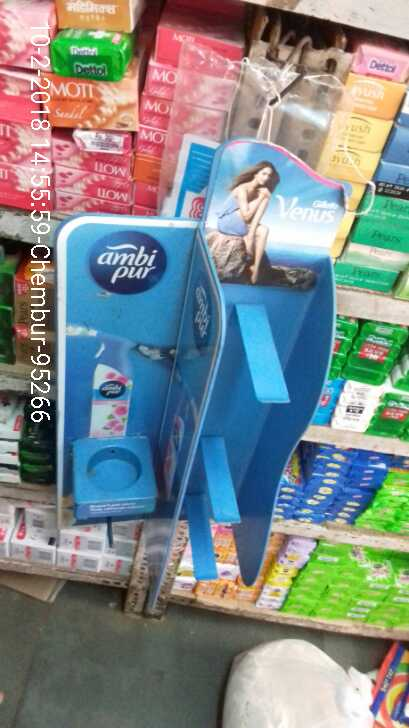reject: (121, 282, 183, 470)
